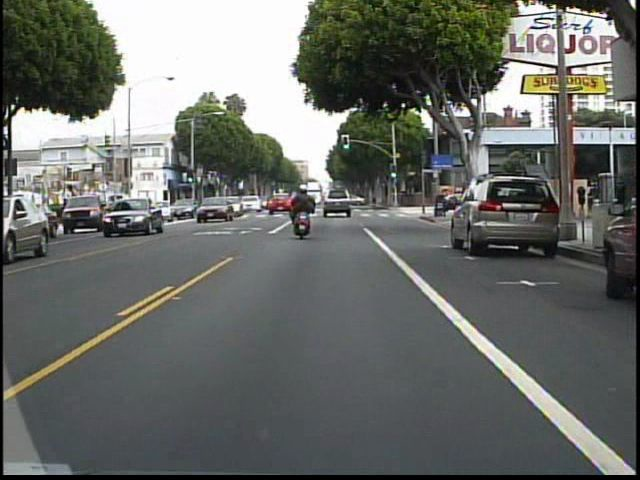person: (289, 183, 322, 238)
